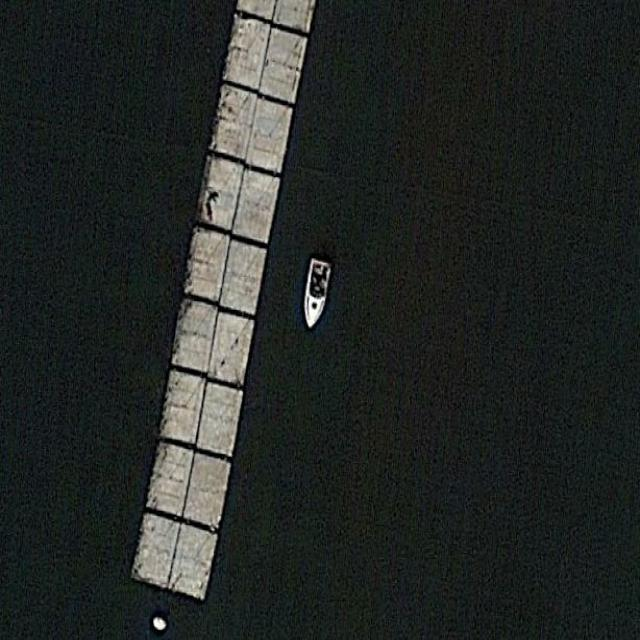ship: (300, 254, 334, 330)
